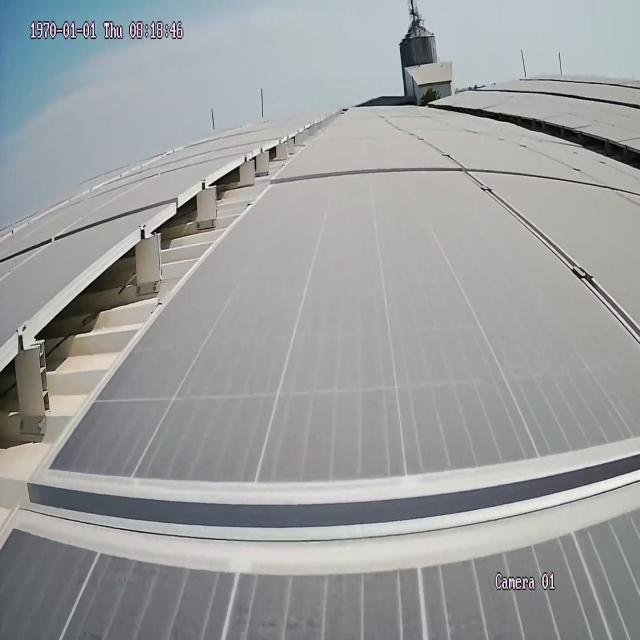interior panel: (26, 430, 639, 582), (419, 140, 640, 351)
outher panel: (0, 114, 337, 548), (503, 115, 640, 168)
